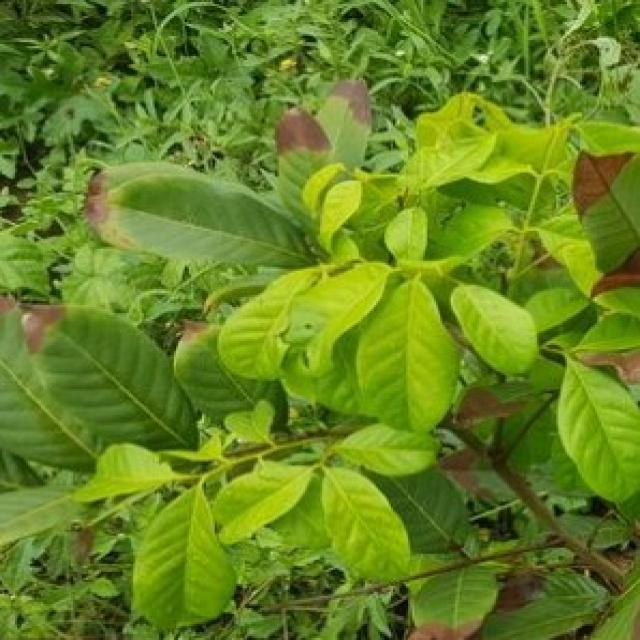Leaf Blight: (423, 369, 517, 511), (23, 153, 138, 251), (257, 80, 381, 166), (546, 132, 632, 228), (9, 278, 96, 358)
